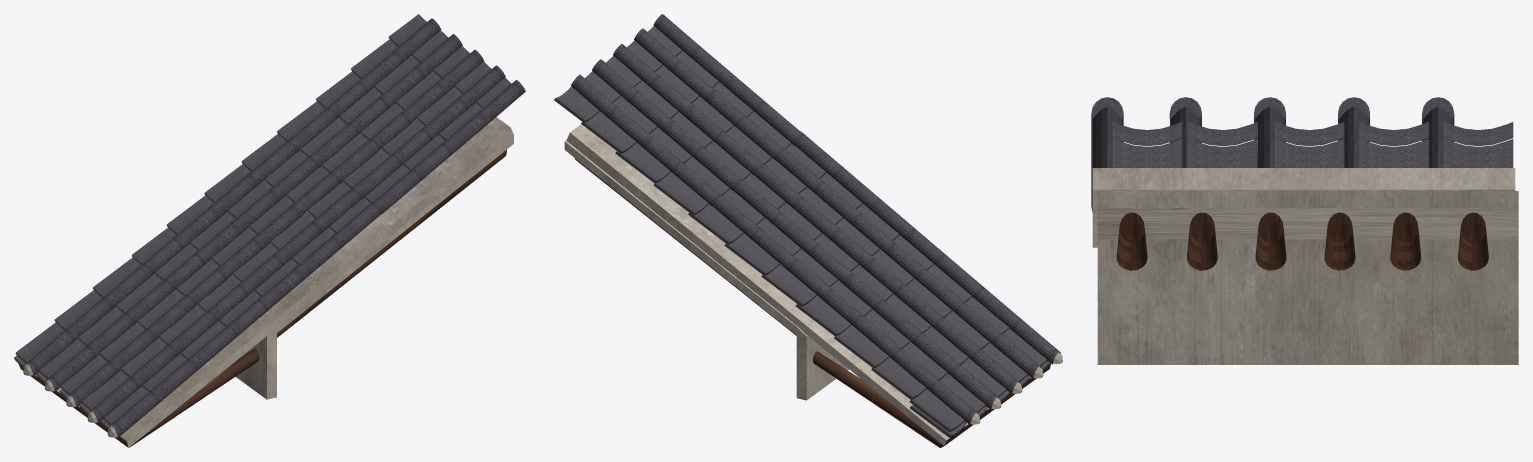
Rendered from SM_Roof_63.fbx.
3 renders of one model, left to right at view 1: azimuth 30°, elevation 25°; view 2: azimuth 150°, elevation 25°; view 3: azimuth 270°, elevation 25°, orthographic. The views are drawn at different scales.
Visible parts, largest first — view 1: SM_Roof_63; view 2: SM_Roof_63; view 3: SM_Roof_63.
Part boxes in pixels (left/top/right/bottom): SM_Roof_63: left=14, top=14, right=525, bottom=447; SM_Roof_63: left=554, top=14, right=1062, bottom=447; SM_Roof_63: left=1091, top=97, right=1518, bottom=364.
Bounding box in the file's own units: 490 × 222 × 314.
4 materials, 4 textured.
